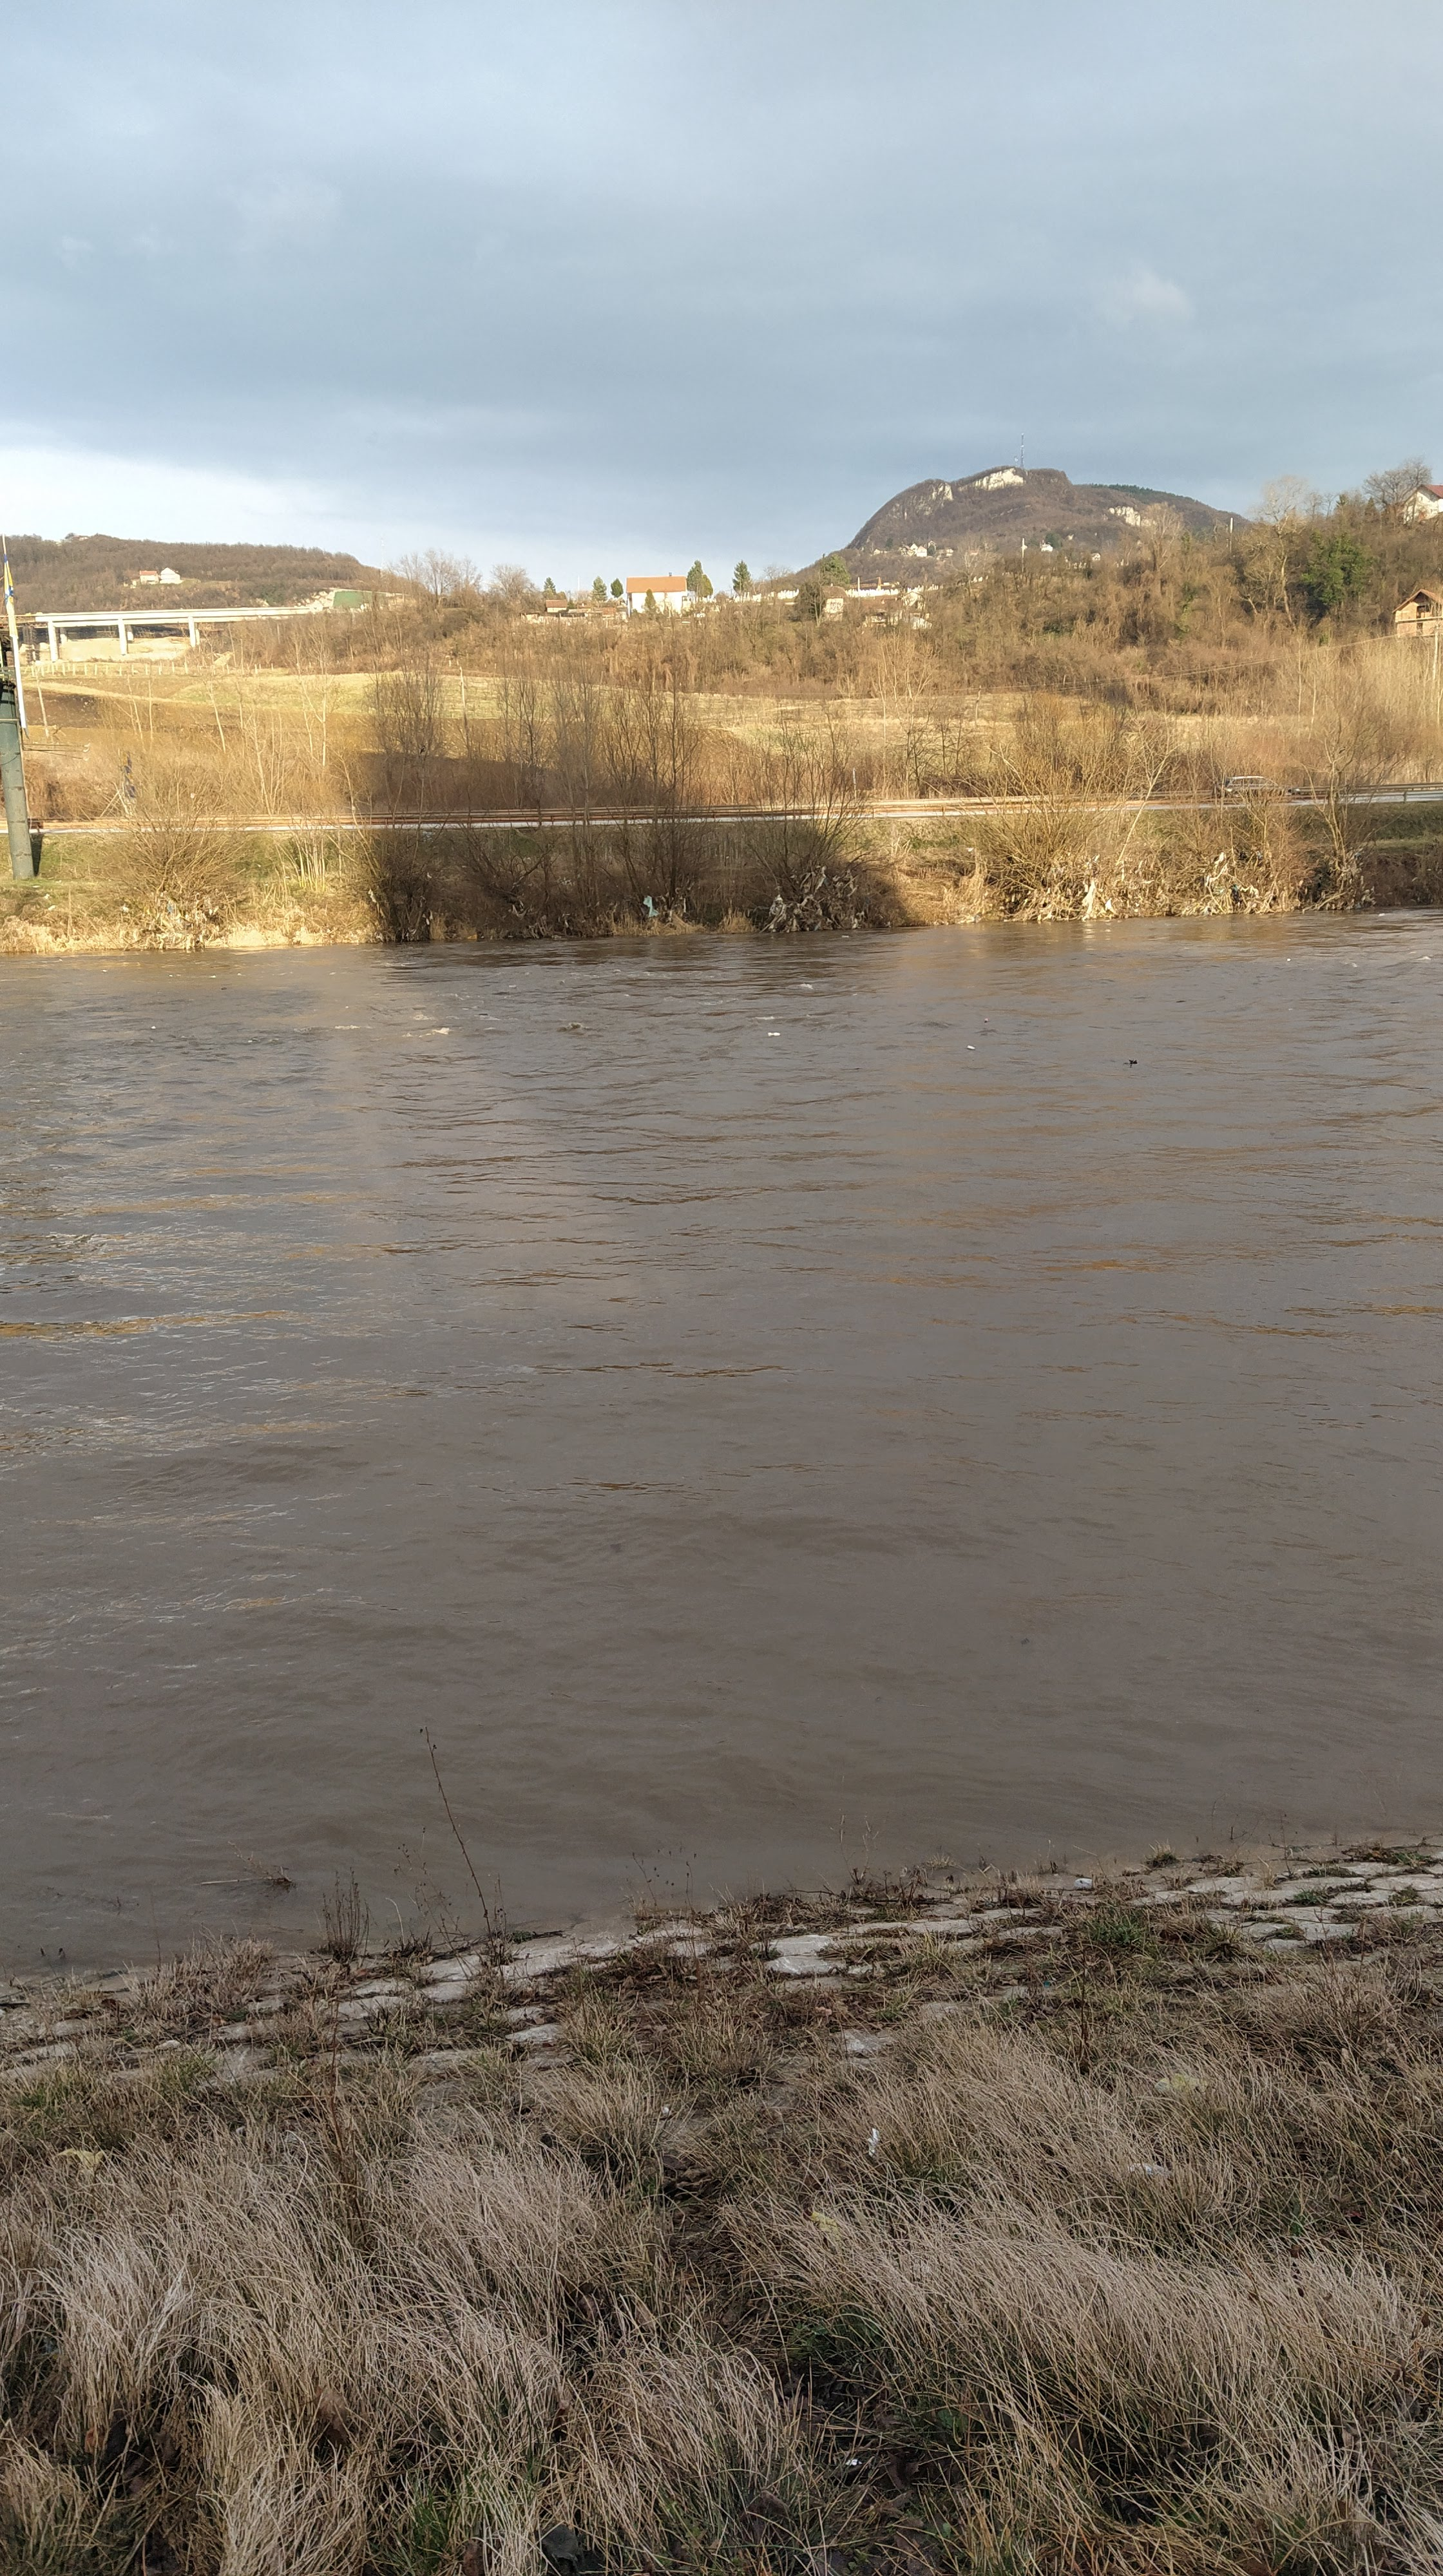Plastic Bottle: (768, 1031, 781, 1037), (967, 1046, 974, 1049), (984, 1017, 988, 1023), (1379, 913, 1385, 916), (508, 985, 515, 987), (843, 936, 848, 938)
